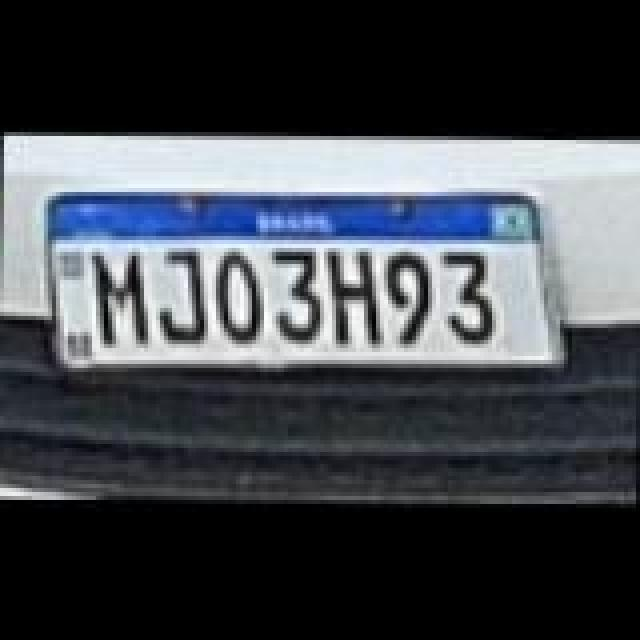3: (442, 248, 502, 344), (270, 246, 322, 342)
9: (382, 248, 434, 344)
H: (328, 246, 384, 342)
J: (154, 242, 214, 342)
M: (94, 246, 154, 346)
O: (214, 244, 266, 340)
